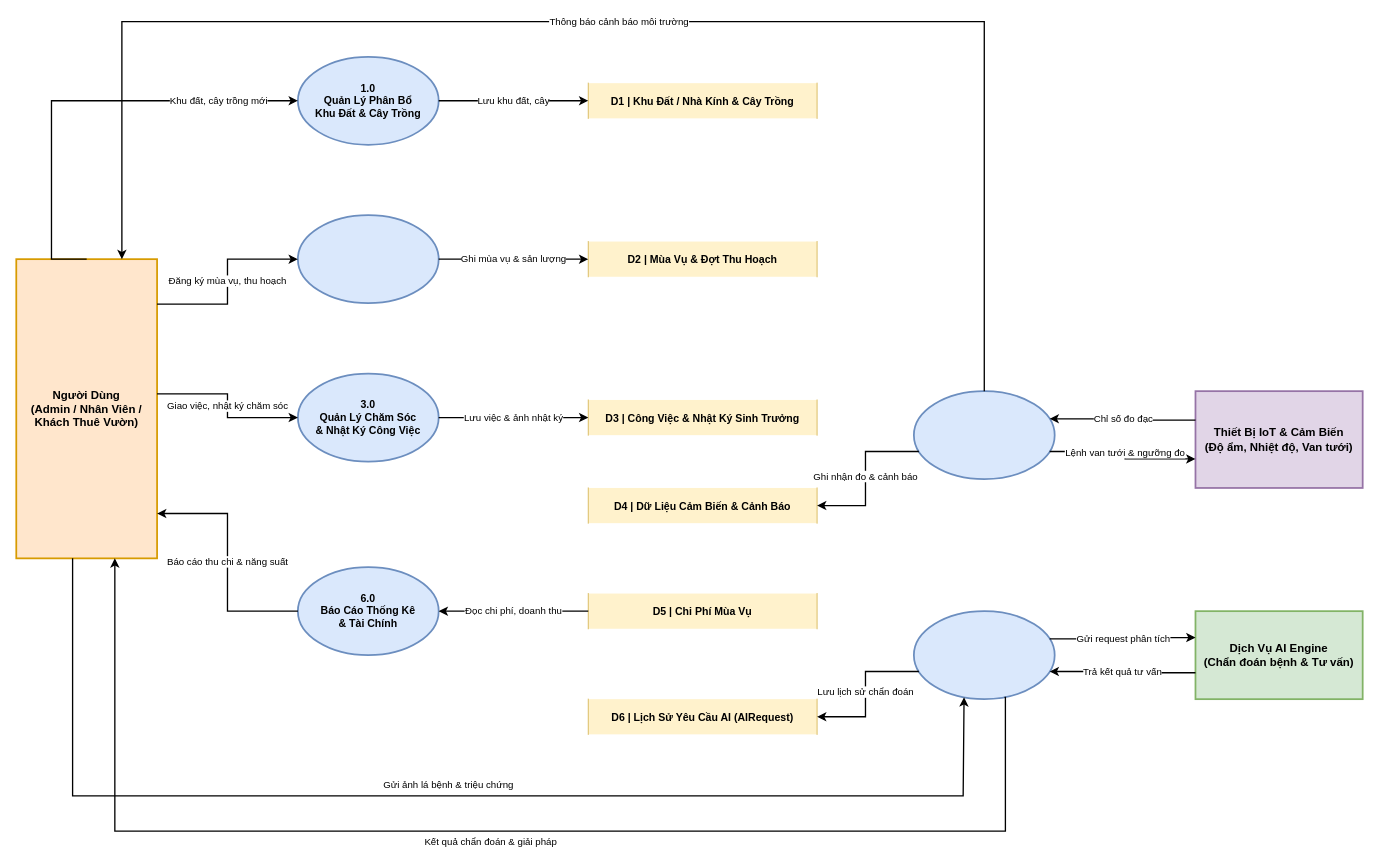
Image size: 1378x863. Some labels were removed from this diagram. Each missing label, with the centre of its shape:
2.0 Quản Lý Mùa Vụ & Thu Hoạch: the point at 368,259
4.0 Giám Sát Cảm Biến & Cảnh Báo: the point at 984,435
5.0 Chẩn Đoán AI & Tư Vấn Canh Tác: the point at 984,655
